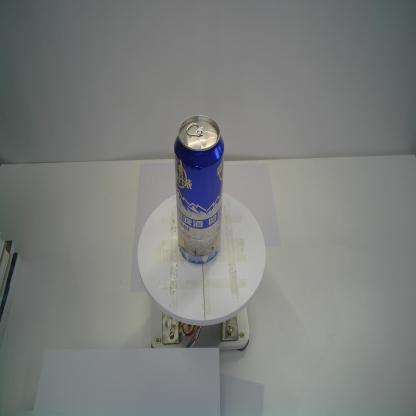Alcohol: (174, 114, 225, 266)
